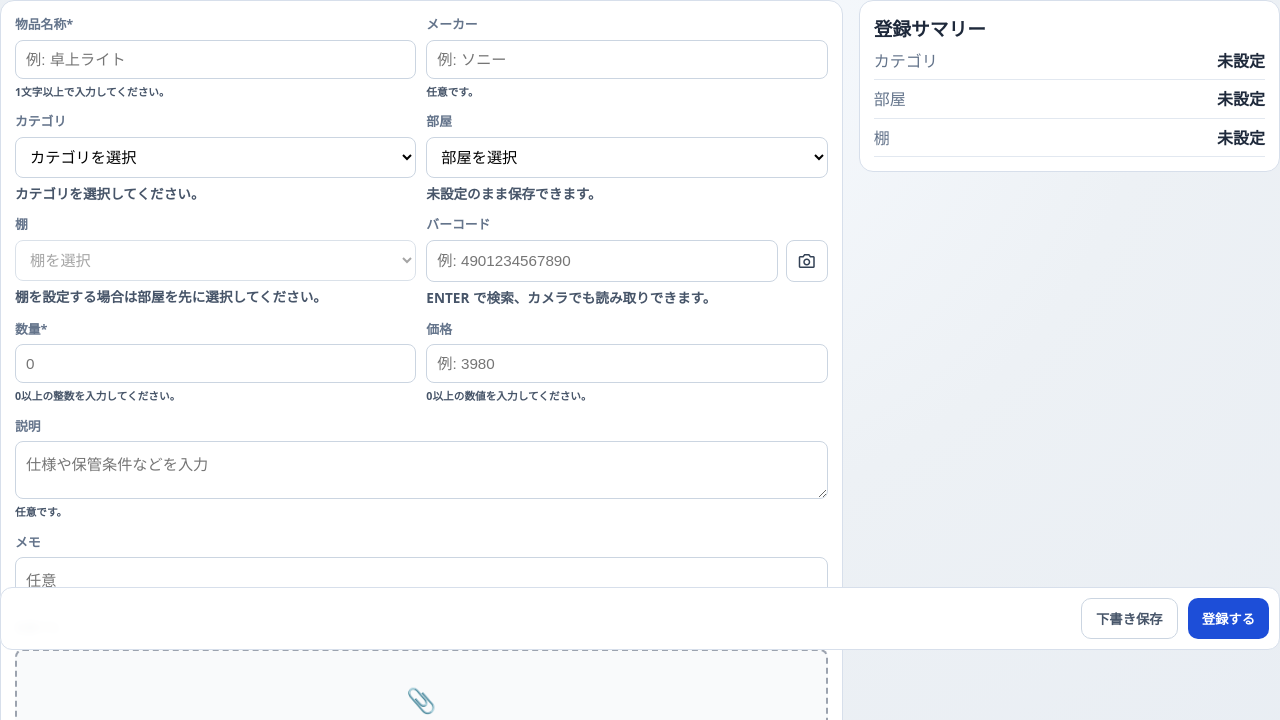
Test: ItemForm barcode › 不正JANでは検索せずエラー表示する
This screenshot has width=1280, height=720.
Type "abc" into the field named "barcode". click: (602, 261)
box: [426,240,778,282]
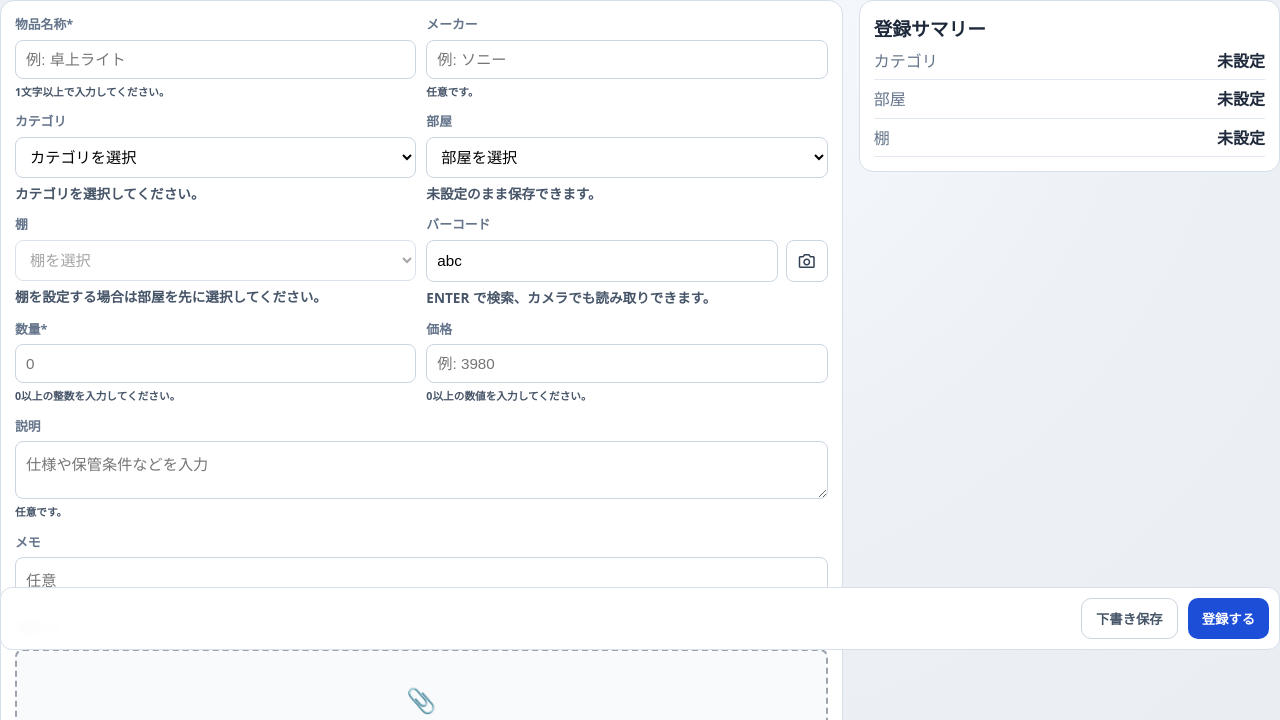
Press Enter in the field named "barcode", box [426,240,778,282]
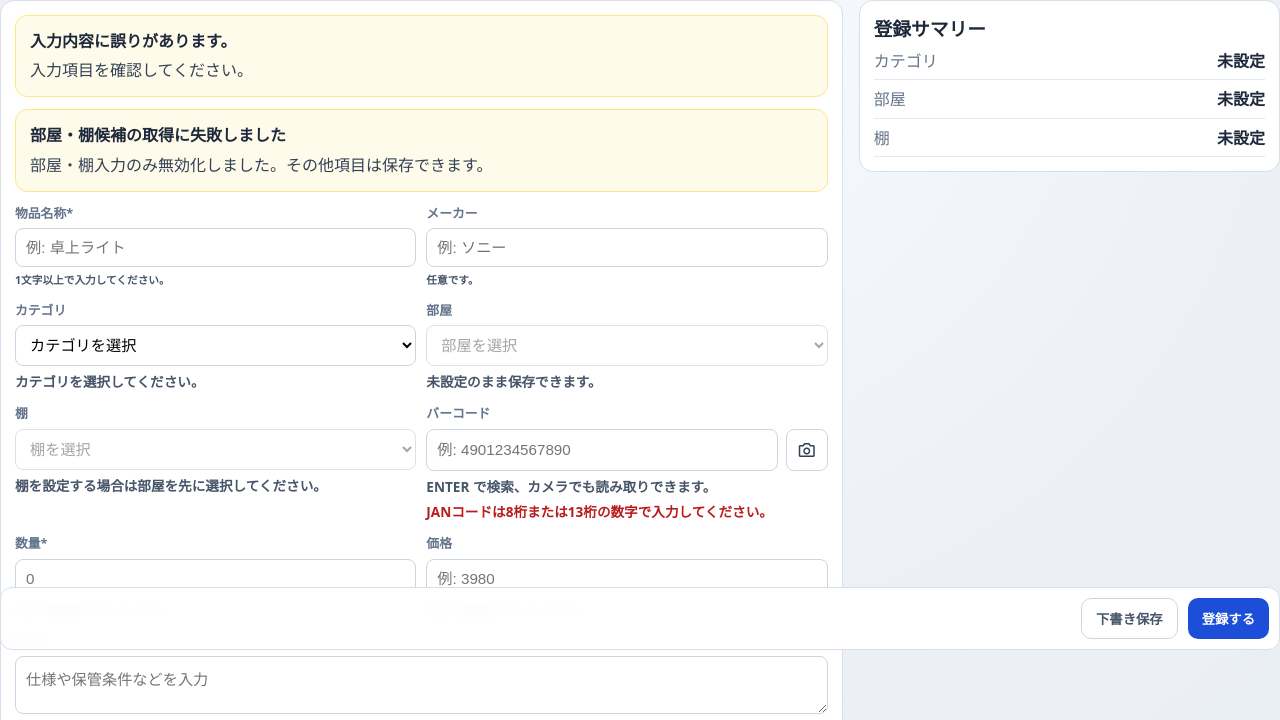
Result: the text "JANコードは8桁または13桁の数字で入力してください。" is shown at [426,502,828,522]
